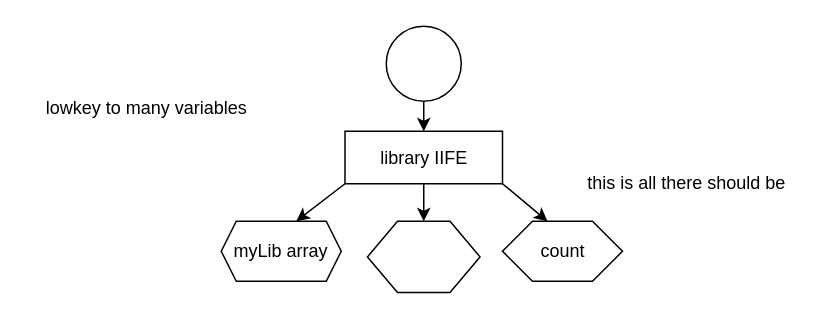
Some shapes in this 831 by 320 pixel diagram are drawn without their labels. The shapes that lost their labels are listed below. From the top down, each one's centre as x and y in pixels, then its label:
[423,63]: start
[423,256]: container
